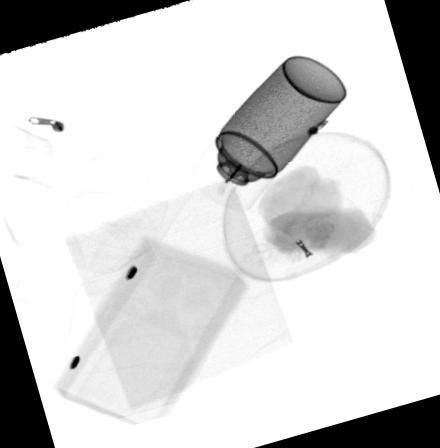Sprayer: (189, 55, 349, 214)
